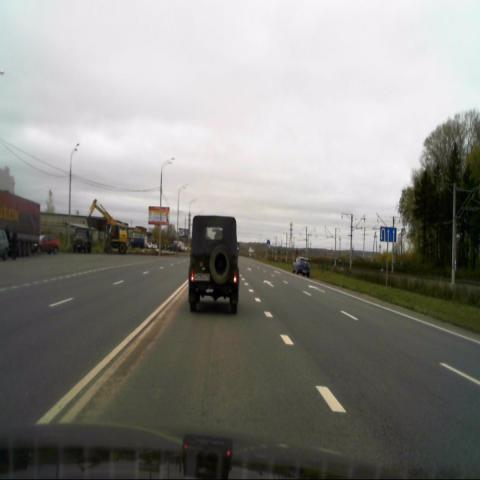5_15_1: (379, 226, 396, 242)
